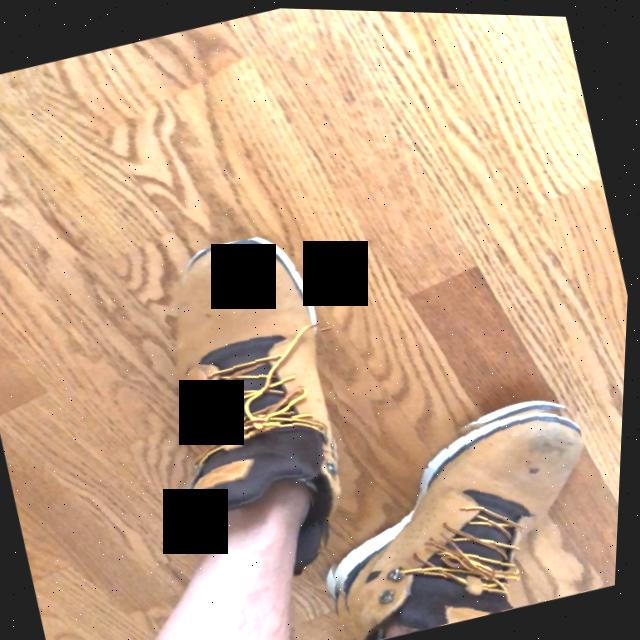shoe: (338, 407, 610, 640), (177, 237, 335, 554)
